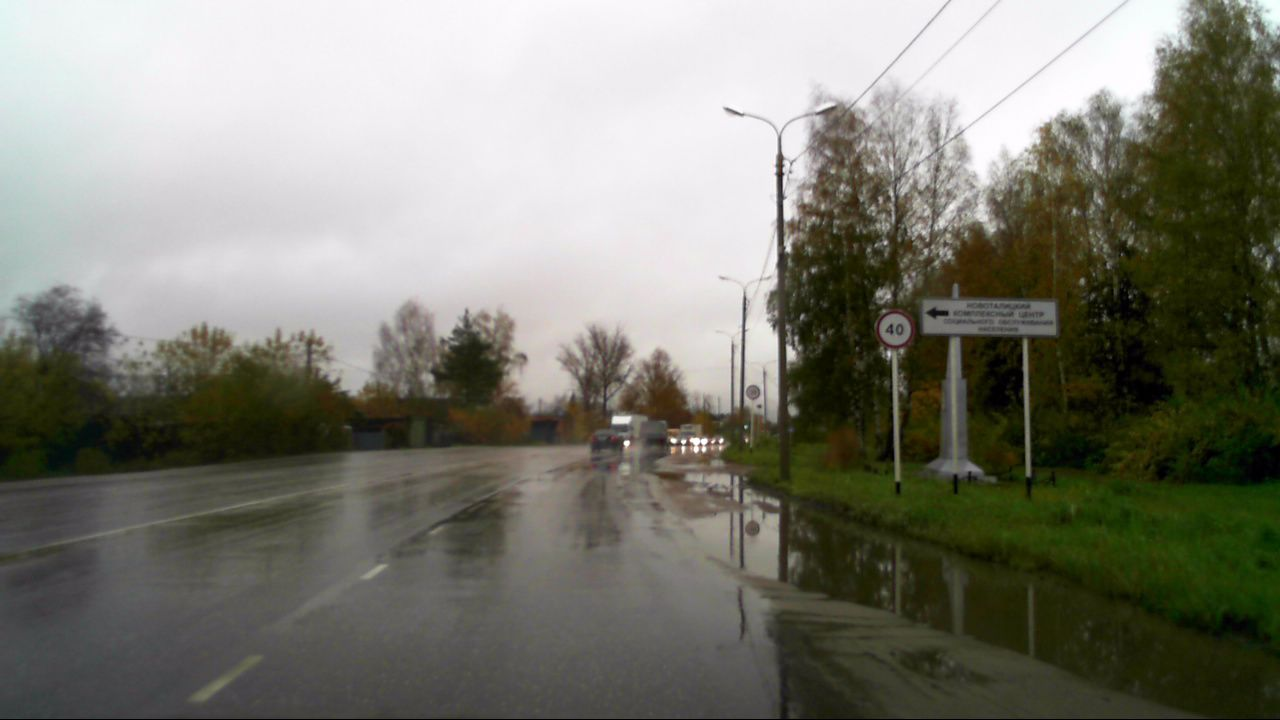speed_warning_40: (873, 309, 915, 349)
